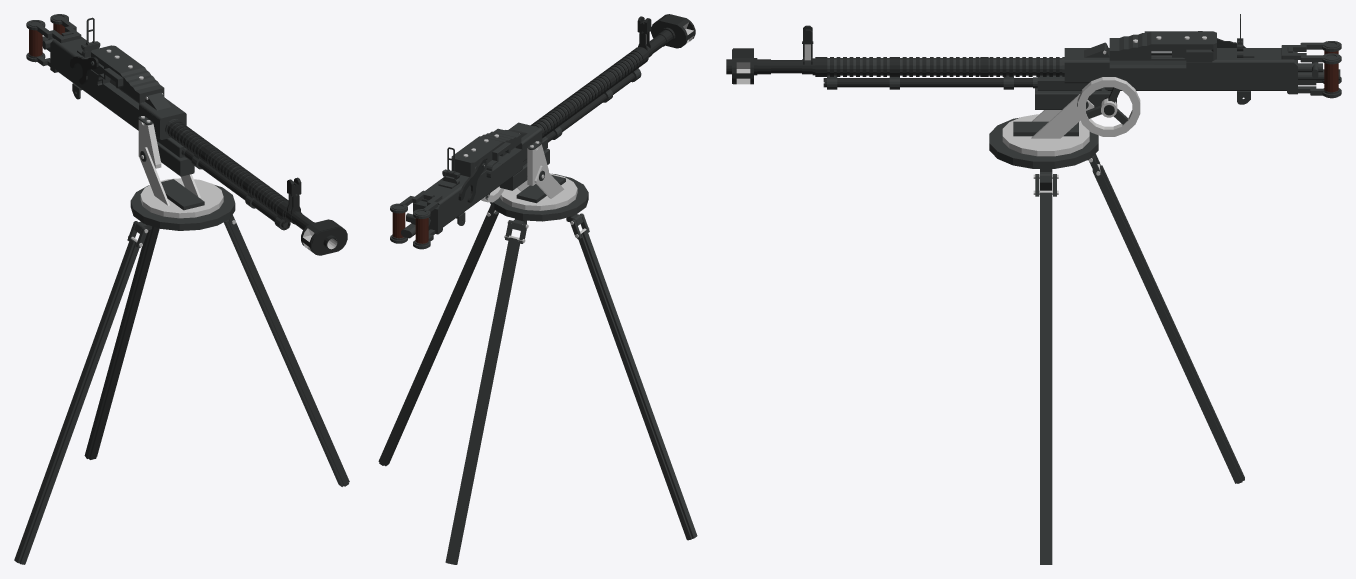
Rendered from dshk.fbx.
3 renders of one model, left to right at view 1: azimuth 30°, elevation 25°; view 2: azimuth 150°, elevation 25°; view 3: azimuth 270°, elevation 25°, orthographic. The views are drawn at different scales.
Parts seen in each view (by area): view 1: cube.570, hexadecagon.358; view 2: cube.570, hexadecagon.358; view 3: cube.570, hexadecagon.358.
Part boxes in pixels (x1=…): cube.570: x1=26, y1=14, x2=347, y2=255; hexadecagon.358: x1=14, y1=185, x2=349, y2=564; cube.570: x1=390, y1=14, x2=695, y2=249; hexadecagon.358: x1=378, y1=173, x2=697, y2=564; cube.570: x1=726, y1=14, x2=1341, y2=156; hexadecagon.358: x1=989, y1=117, x2=1244, y2=564.
Bounding box in the file's own units: 968 × 1224 × 1460.
